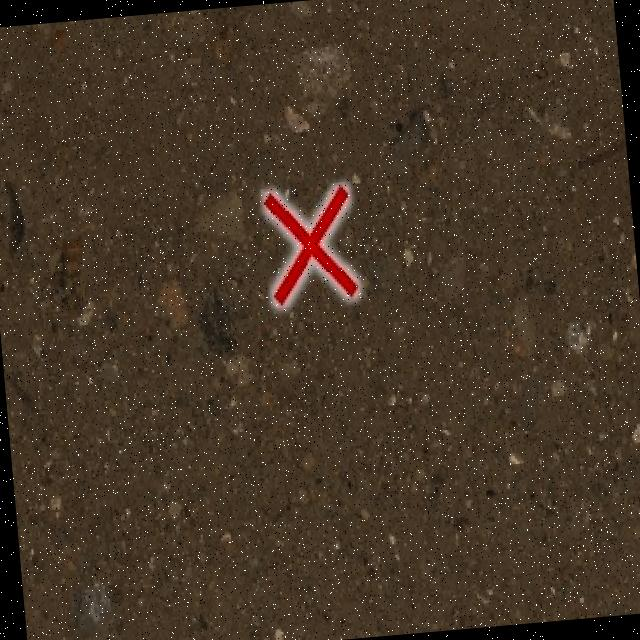x_marker: (264, 185, 357, 304)
